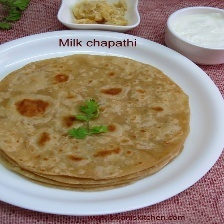roti: (1, 53, 191, 191)
